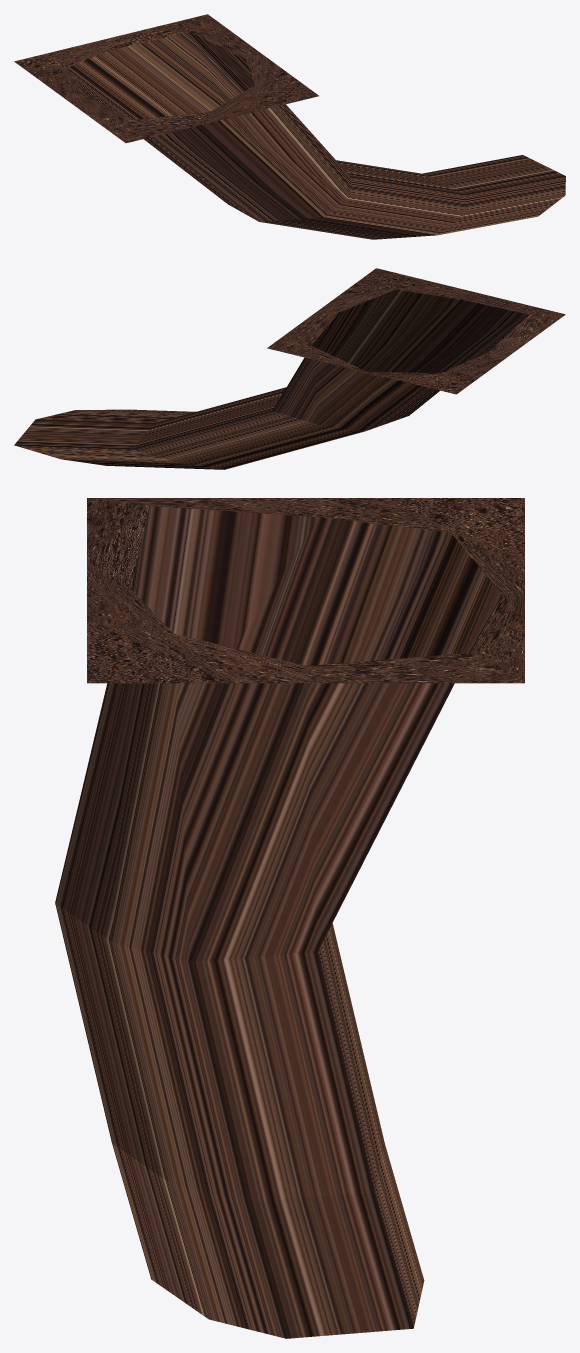
Rendered from anthill.fbx.
3 renders of one model, top to bottom at view 1: azimuth 30°, elevation 25°; view 2: azimuth 150°, elevation 25°; view 3: azimuth 270°, elevation 25°, orthographic. The views are drawn at different scales.
Parts seen in each view (by area): view 1: floor.002; view 2: floor.002; view 3: floor.002.
Part boxes in pixels (x1,y1,x2,y2): floor.002: (14, 14, 565, 239); floor.002: (14, 268, 565, 469); floor.002: (55, 498, 524, 1338).
Bounding box in the file's own units: 5.07 × 1.93 × 2.15.
